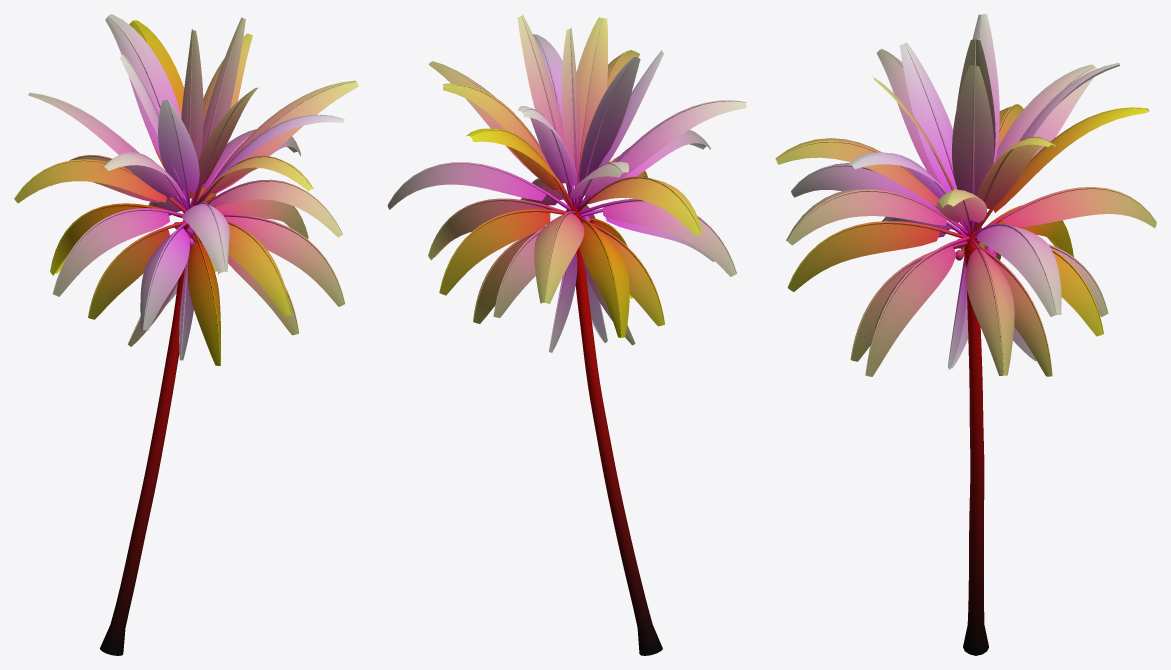
The model's file is palm_coconut_a.glb.
3 renders of one model, left to right at view 1: azimuth 30°, elevation 25°; view 2: azimuth 150°, elevation 25°; view 3: azimuth 270°, elevation 25°, orthographic. The views are drawn at different scales.
Visible parts, largest first — view 1: palm_coconut_a; view 2: palm_coconut_a; view 3: palm_coconut_a.
Boxes of the visible parts, x1,y1,x2,y2 form: palm_coconut_a: (14, 14, 358, 655); palm_coconut_a: (387, 14, 746, 655); palm_coconut_a: (775, 14, 1156, 655).
Size of what is drawn, in the model's own units: 9.62 by 18.15 by 9.61.
